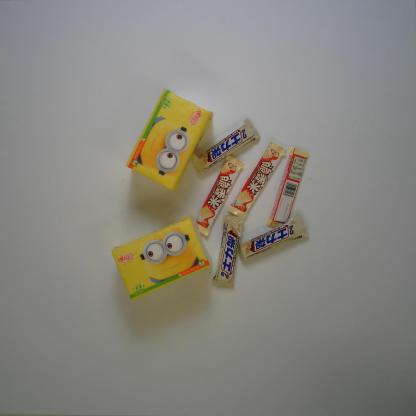Chocolate: (227, 142, 287, 219), (190, 118, 261, 177), (194, 156, 244, 237), (266, 147, 310, 229), (238, 212, 310, 260), (211, 214, 245, 290)
Tissue: (125, 88, 214, 192), (112, 216, 210, 301)
